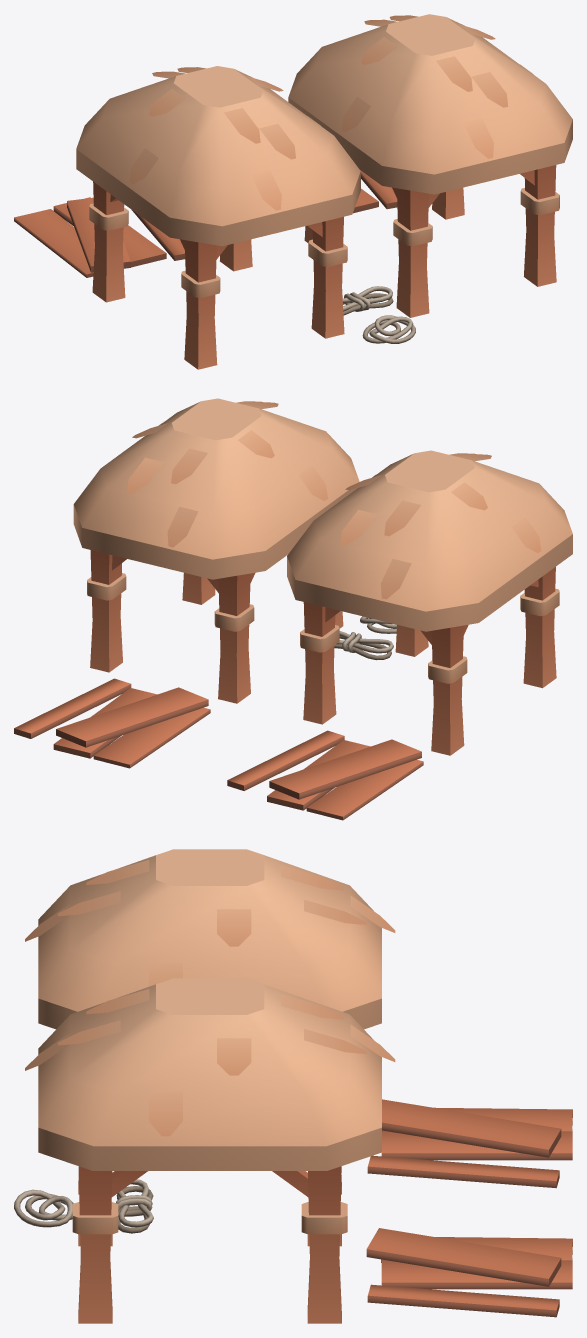
The model's file is london_yard_2.glb.
3 renders of one model, top to bottom at view 1: azimuth 30°, elevation 25°; view 2: azimuth 150°, elevation 25°; view 3: azimuth 270°, elevation 25°, orthographic. The views are drawn at different scales.
Visible parts, largest first — view 1: structure-roof (×2), platform-planks (×2), rope_bundle_B, rope_bundle_A; view 2: structure-roof (×2), platform-planks (×2), rope_bundle_A; view 3: structure-roof (×2), platform-planks (×2), rope_bundle_B, rope_bundle_A.
Part boxes in pixels (x1=…): structure-roof (×2): x1=76, y1=14, x2=572, y2=369; platform-planks (×2): x1=14, y1=170, x2=397, y2=277; rope_bundle_B: x1=362, y1=315, x2=415, y2=343; rope_bundle_A: x1=342, y1=286, x2=393, y2=315; structure-roof (×2): x1=73, y1=398, x2=572, y2=755; platform-planks (×2): x1=14, y1=678, x2=423, y2=820; rope_bundle_A: x1=334, y1=631, x2=393, y2=660; structure-roof (×2): x1=25, y1=849, x2=395, y2=1323; platform-planks (×2): x1=366, y1=1099, x2=572, y2=1317; rope_bundle_B: x1=14, y1=1189, x2=73, y2=1227; rope_bundle_A: x1=116, y1=1179, x2=153, y2=1233.
Size of the model in its own units: 15.41 by 8.16 by 14.64.
Materials: 6 (6 with a texture image).
